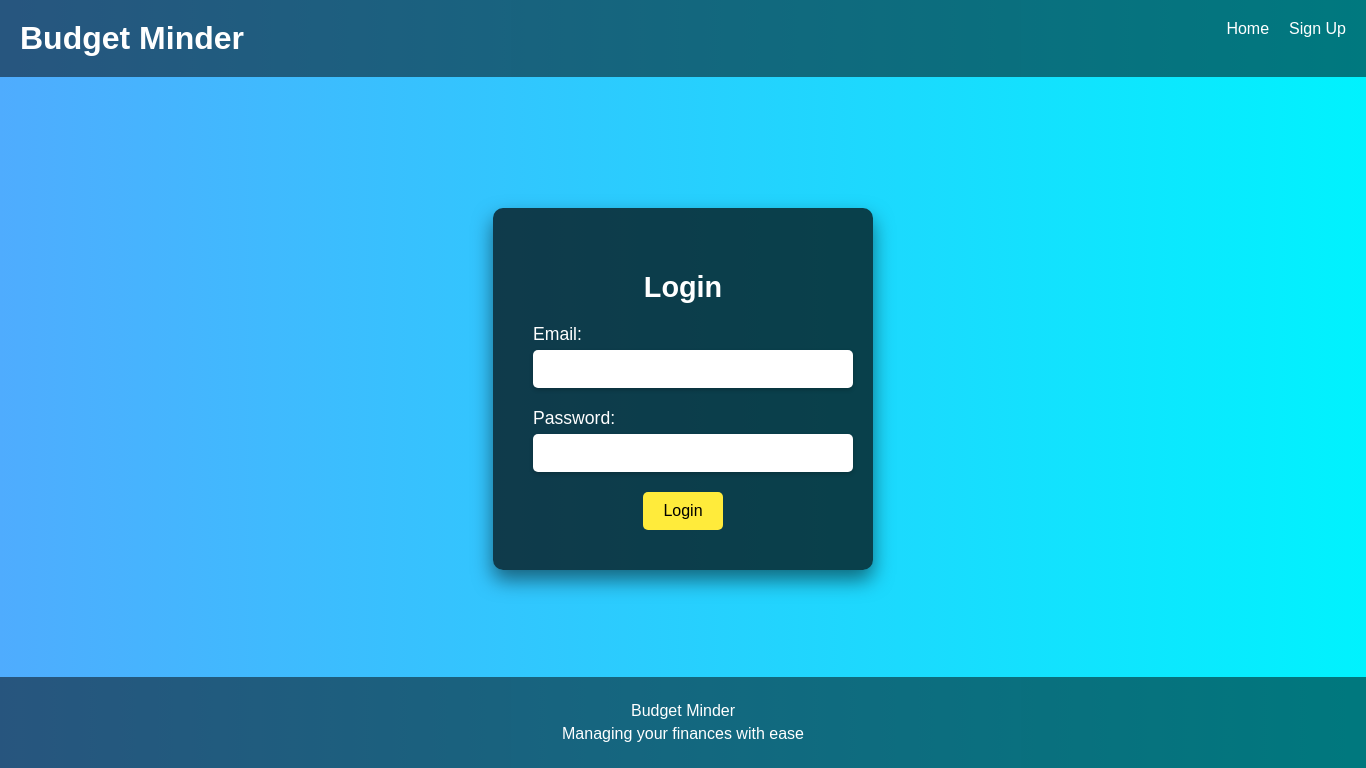
Scenario: LoginForm › handles login error
This screenshot has width=1366, height=768.
Type "test@example.com" into the field labelled "Email:" at coordinates (693, 369), box [533,350,853,388]
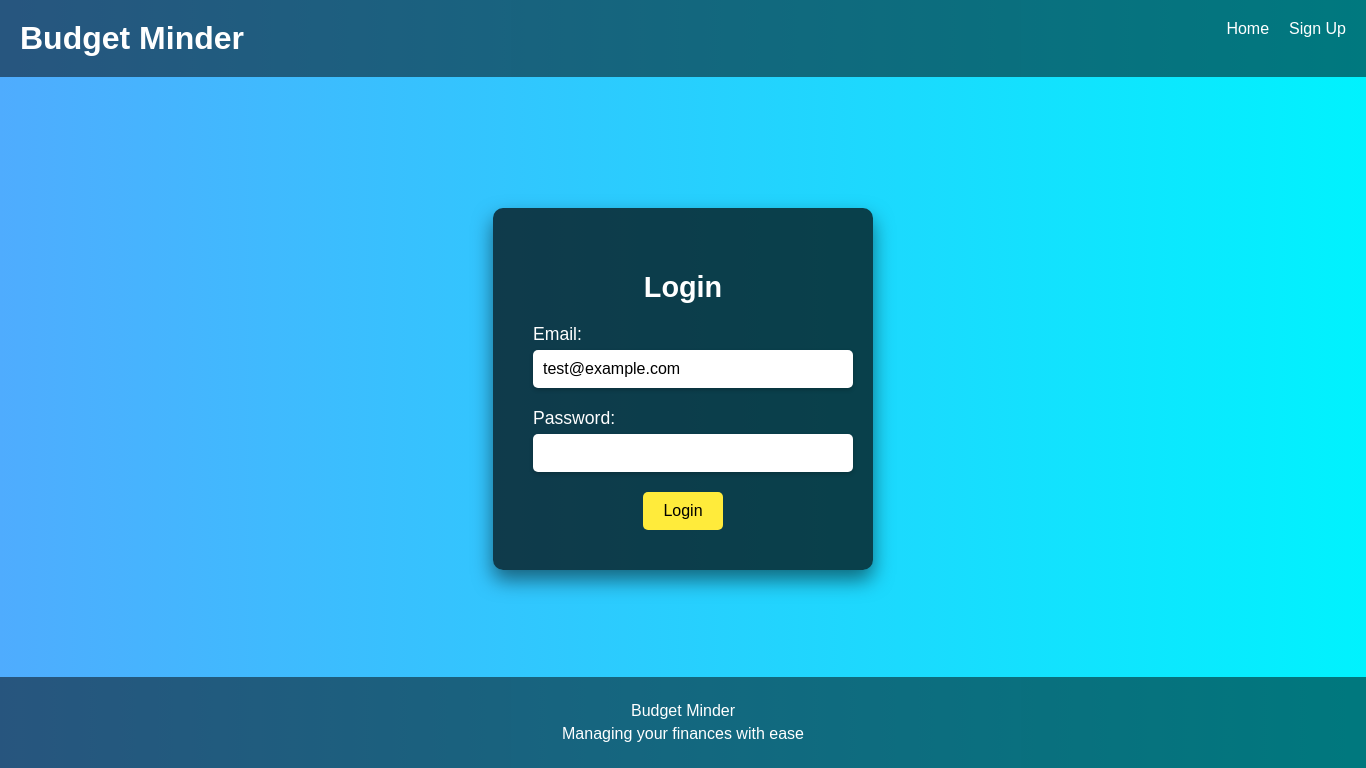
Type "wrongpassword" into the password field labelled "Password:" at coordinates (693, 453), box [533,434,853,472]
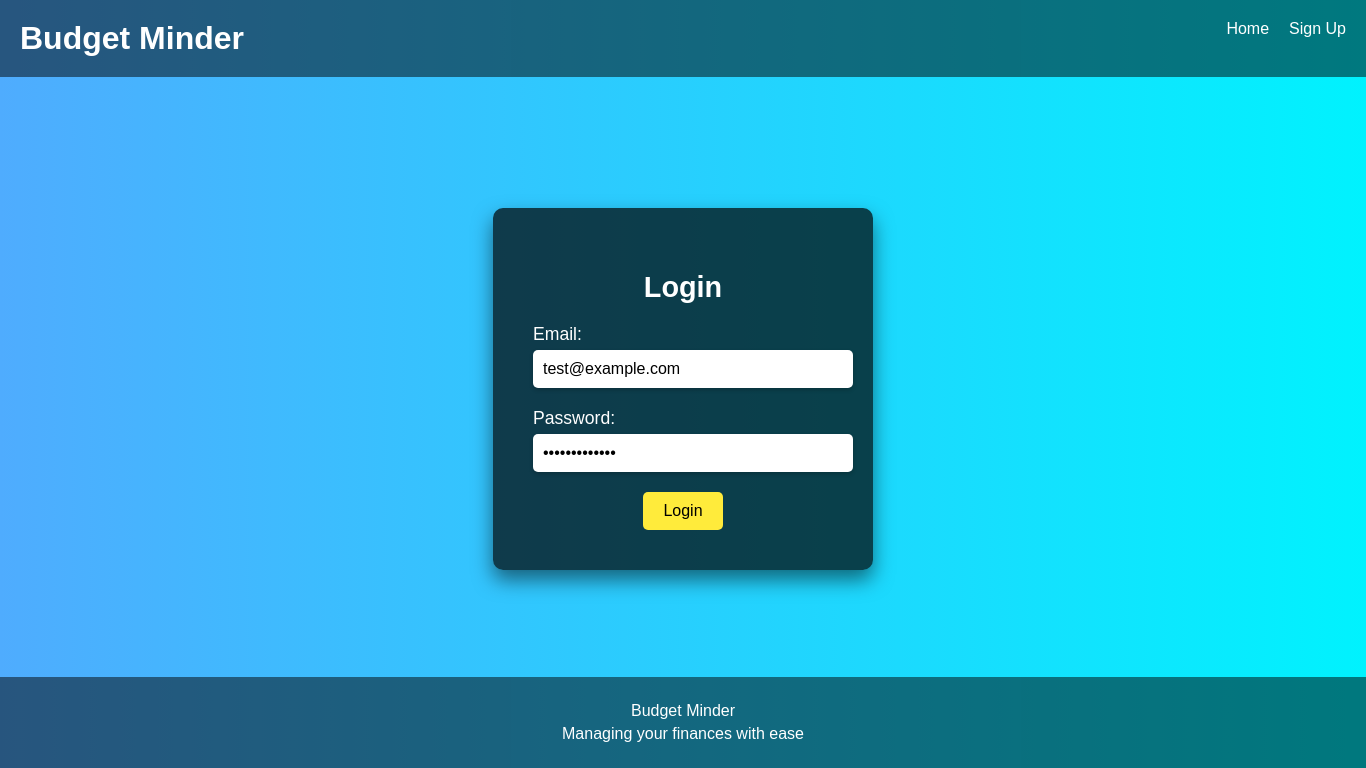
Click the button "Login" at coordinates (683, 511), box [643,492,723,530]
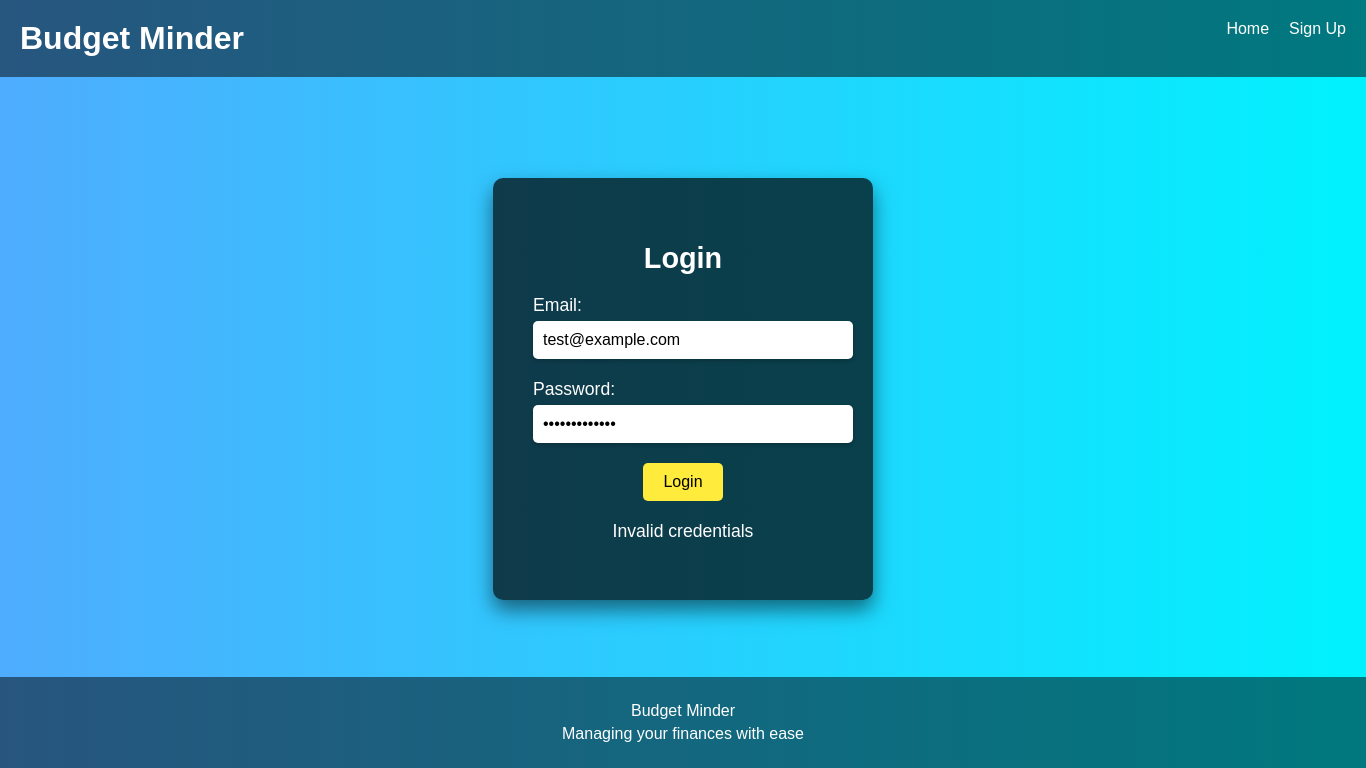
Expected: the text "Invalid credentials" is shown, [613,521,753,541]
